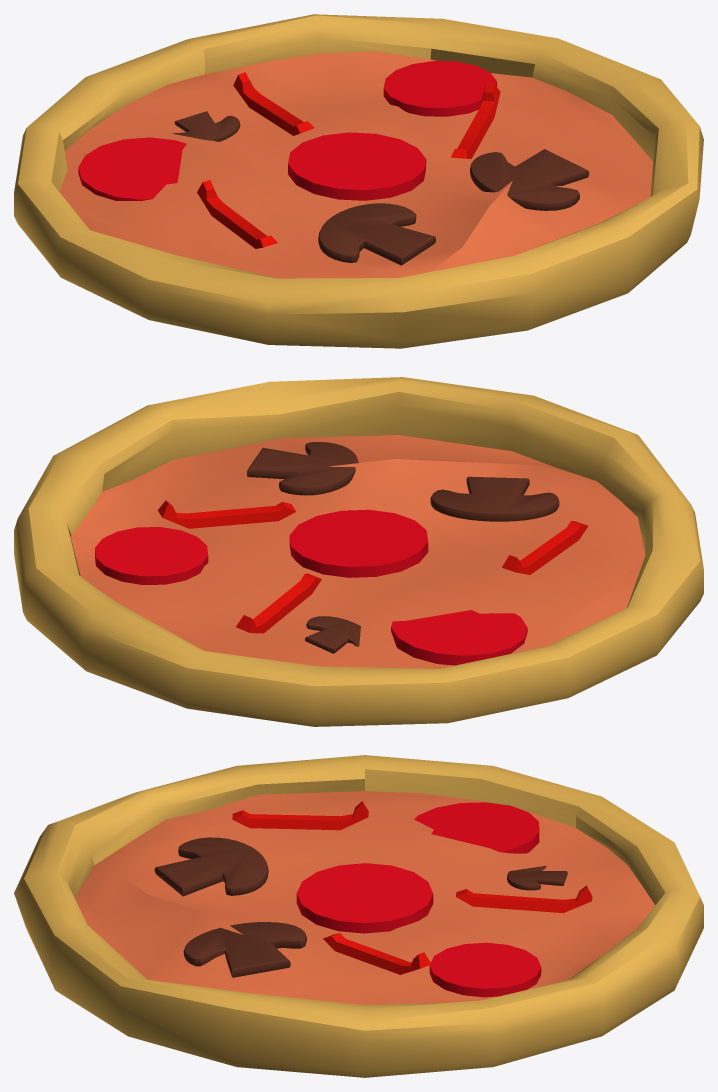
File: Pizza.fbx
The picture shows the model from 3 angles, top to bottom: view 1: azimuth 30°, elevation 25°; view 2: azimuth 150°, elevation 25°; view 3: azimuth 270°, elevation 25°; orthographic projection. The views are drawn at different scales.
Visible parts, largest first — view 1: Cylinder; view 2: Cylinder; view 3: Cylinder.
Boxes of the visible parts, <box> form: Cylinder: <box>14,14,703,348</box>; Cylinder: <box>14,377,703,726</box>; Cylinder: <box>14,755,703,1077</box>.
Bounding box in the file's own units: 202 × 22.36 × 204.
